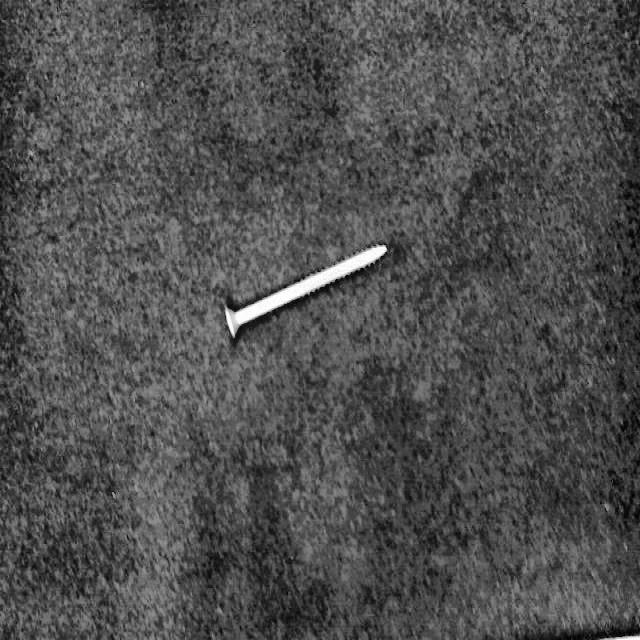Wood screw: (223, 241, 387, 339)
